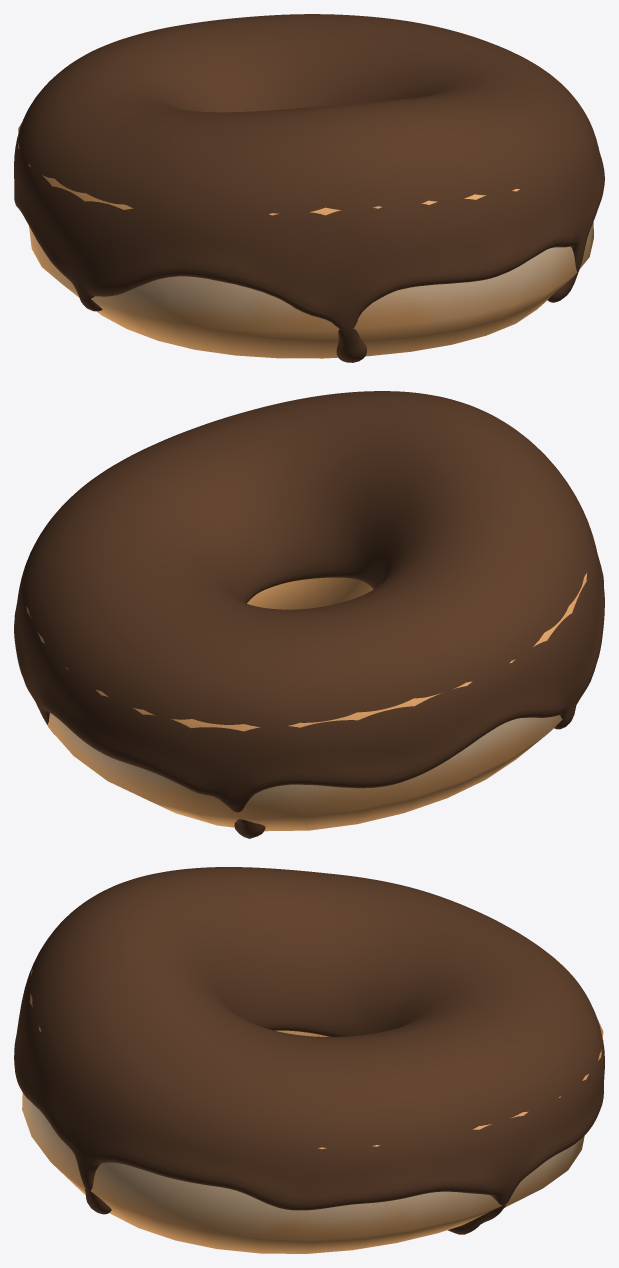
The model's file is donut.glb.
3 views of the same model, one above another, from view 1: azimuth 30°, elevation 25°; view 2: azimuth 150°, elevation 25°; view 3: azimuth 270°, elevation 25° (orthographic). The views are drawn at different scales.
Parts seen in each view (by area): view 1: icing.006, donut.007; view 2: icing.006, donut.007; view 3: icing.006, donut.007.
Boxes of the visible parts, left/top/right/bottom form: icing.006: left=14, top=14, right=604, bottom=362; donut.007: left=18, top=123, right=593, bottom=358; icing.006: left=14, top=391, right=604, bottom=838; donut.007: left=26, top=553, right=590, bottom=831; icing.006: left=14, top=867, right=604, bottom=1234; donut.007: left=22, top=969, right=603, bottom=1253.
Bounding box in the file's own units: 0.1255 × 0.0623 × 0.1295.
2 materials, 1 textured.
